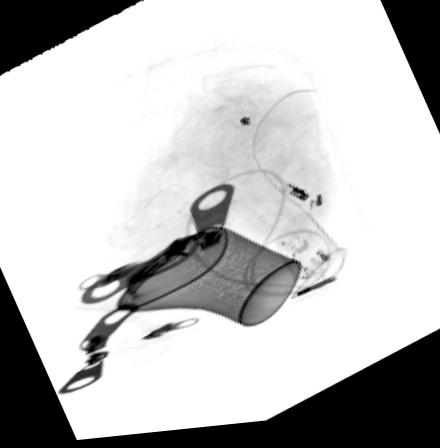Sprayer: (47, 223, 305, 333)
